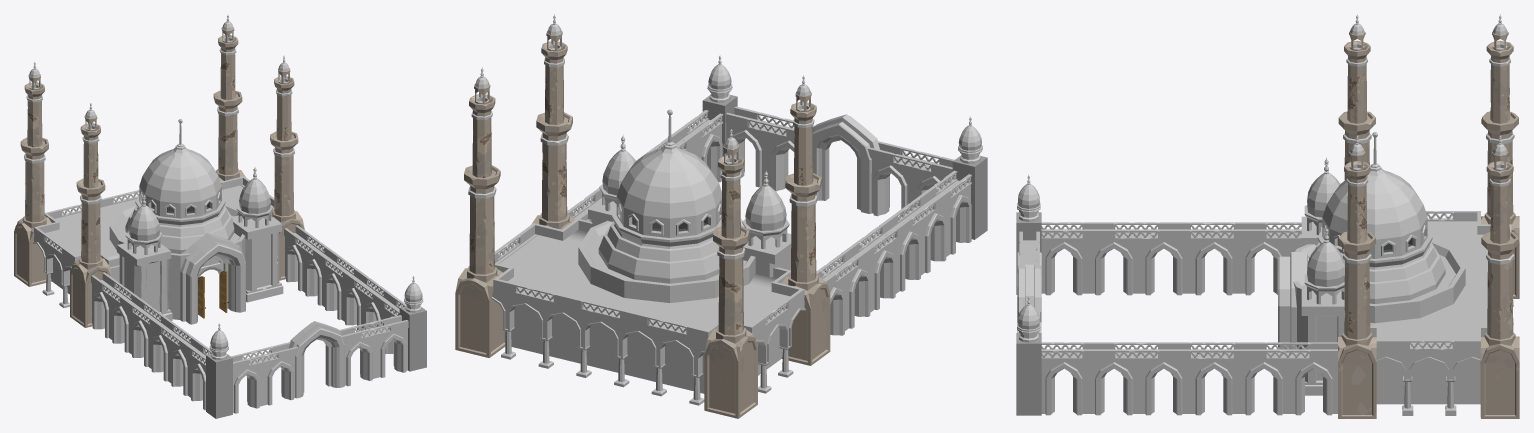
The model's file is TempMosque.fbx.
The picture shows the model from 3 angles, left to right: view 1: azimuth 30°, elevation 25°; view 2: azimuth 150°, elevation 25°; view 3: azimuth 270°, elevation 25°; orthographic projection. The views are drawn at different scales.
Visible parts, largest first — view 1: TempMosque; view 2: TempMosque; view 3: TempMosque.
Boxes of the visible parts, box(x1,y1,x2,y2) form: TempMosque: box(14, 14, 426, 418); TempMosque: box(455, 14, 987, 418); TempMosque: box(1016, 14, 1519, 418).
Size of the model in its own units: 2247 by 2123 by 3500.
